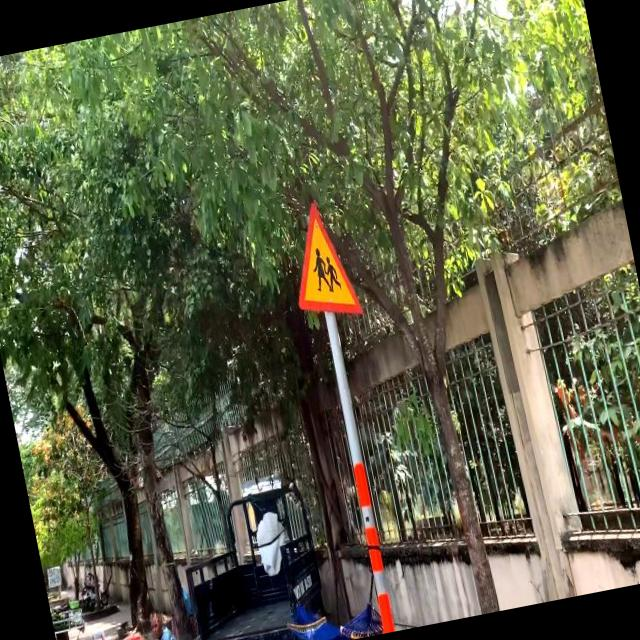W-225: (279, 190, 364, 325)
